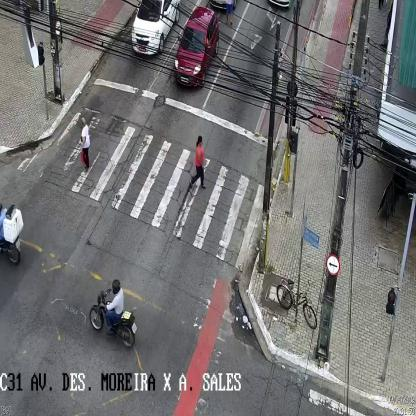car: (174, 7, 219, 91), (130, 2, 180, 57)
motorbike: (88, 278, 138, 348)
person: (190, 137, 206, 192), (80, 118, 90, 172), (224, 2, 234, 27)
